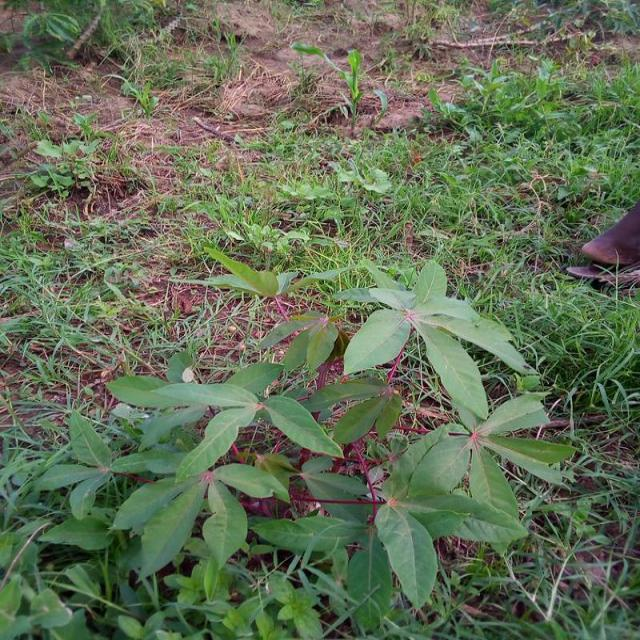cassava leaf: (337, 258, 529, 427)
